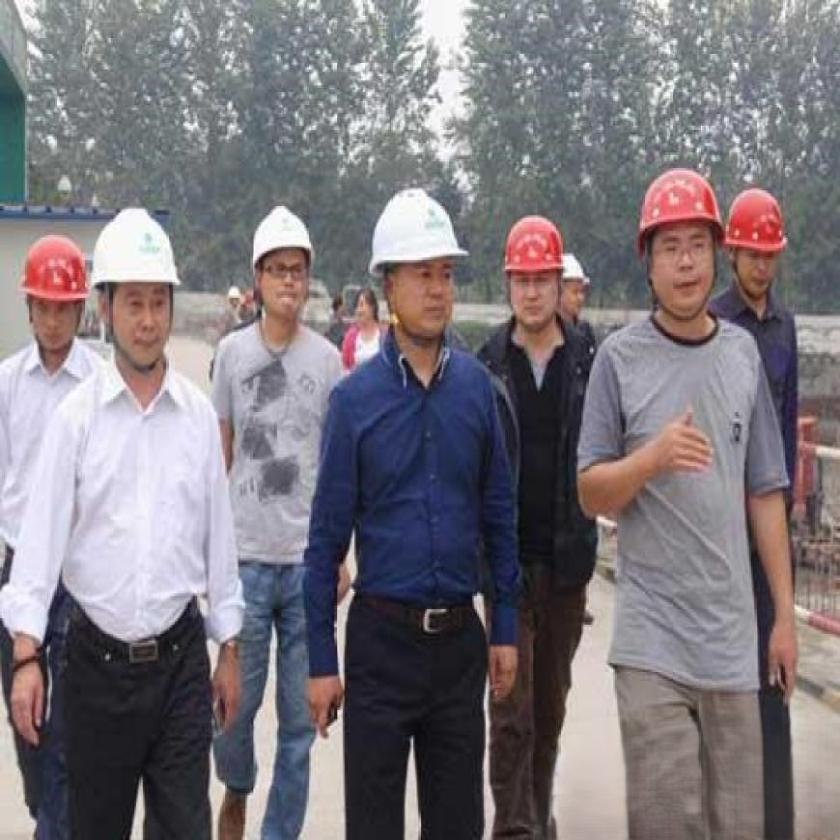Con_casco: (371, 186, 467, 372), (88, 203, 180, 389), (638, 170, 722, 328), (14, 214, 91, 372), (246, 196, 320, 341), (505, 209, 566, 347), (728, 184, 784, 318)
